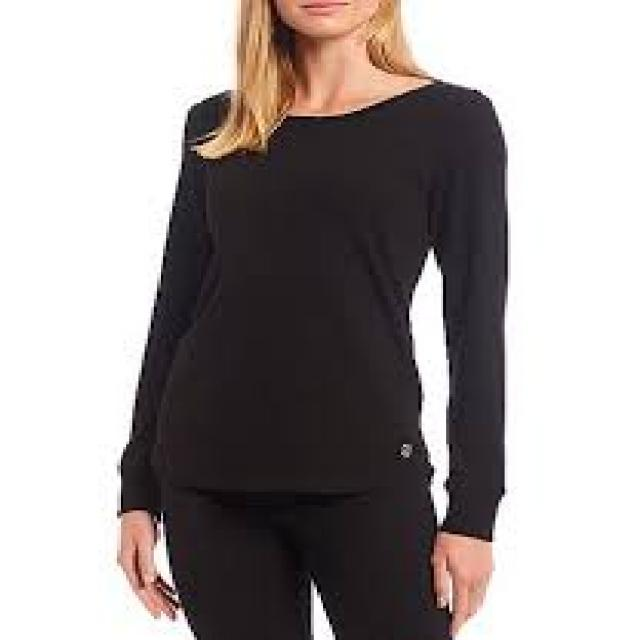plain: (120, 76, 515, 542)
